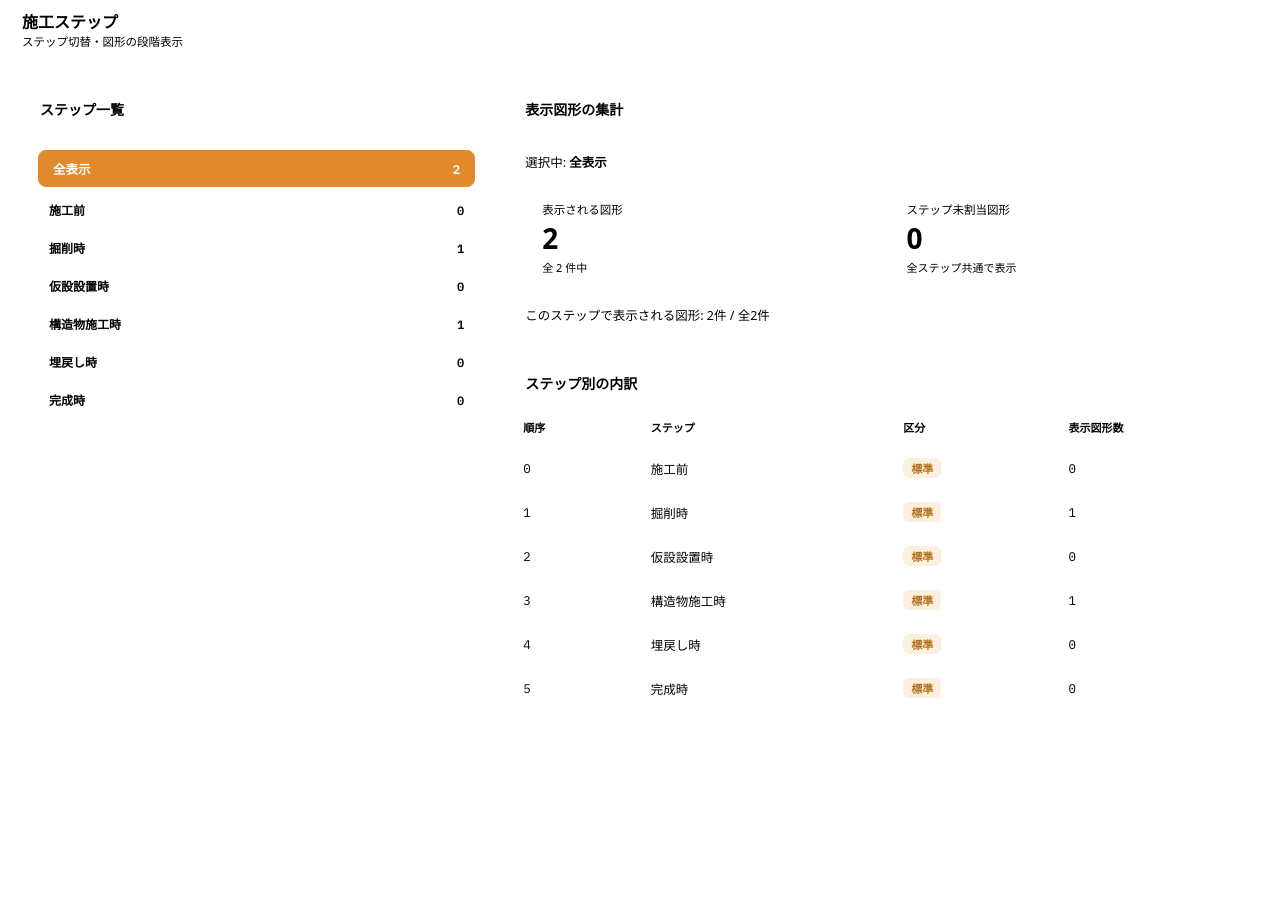
it: ConstructionStepsPage › ステップ選択後に「全表示」へ戻すと全図形が対象になる
Click the button "構造物施工時 1". click: (85, 324)
box: [38, 309, 475, 339]
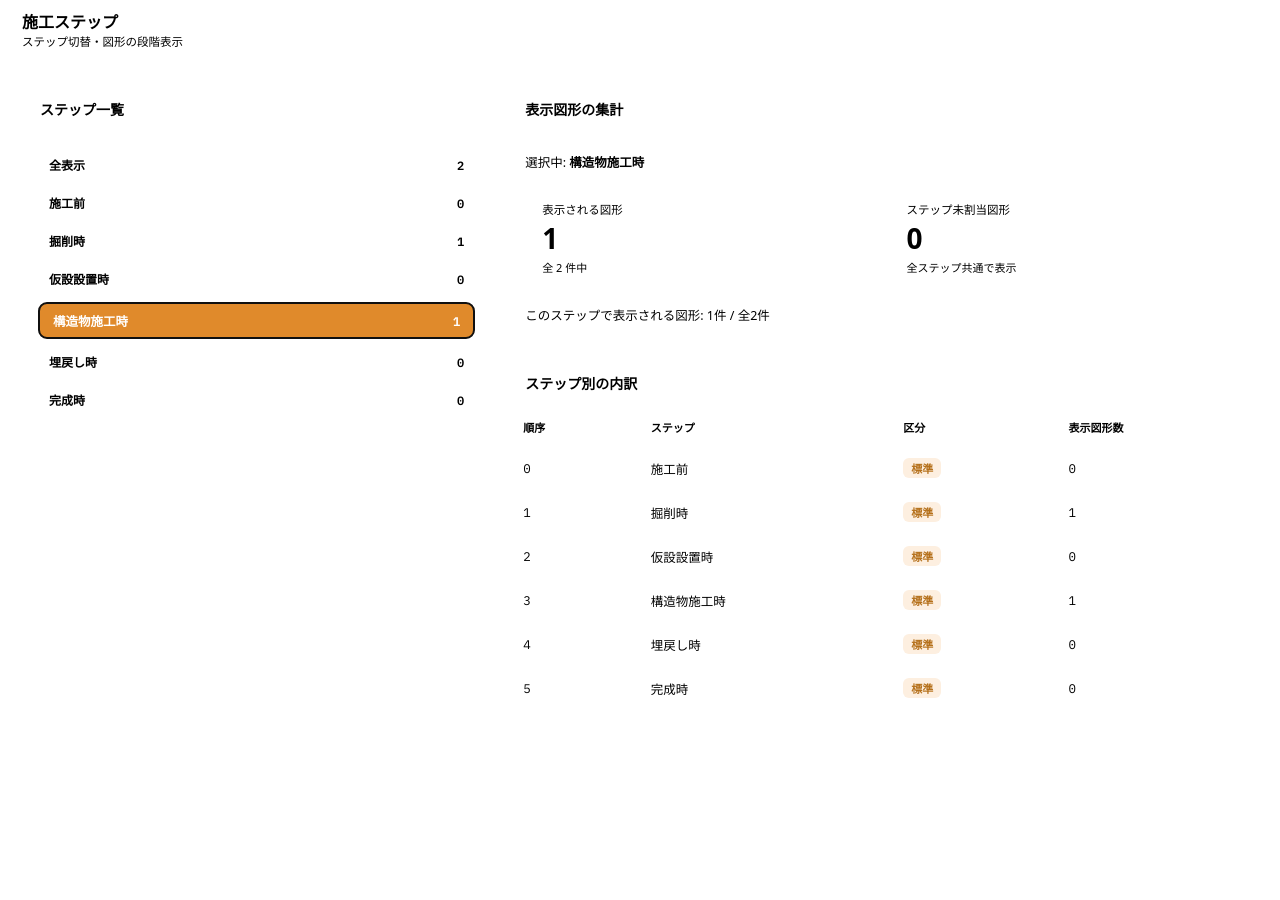
Expected: the text "このステップで表示される図形: 1件 / 全2件" is shown, [525, 307, 770, 324]
Click the button "全表示 2". click: (67, 166)
box: [38, 150, 475, 180]
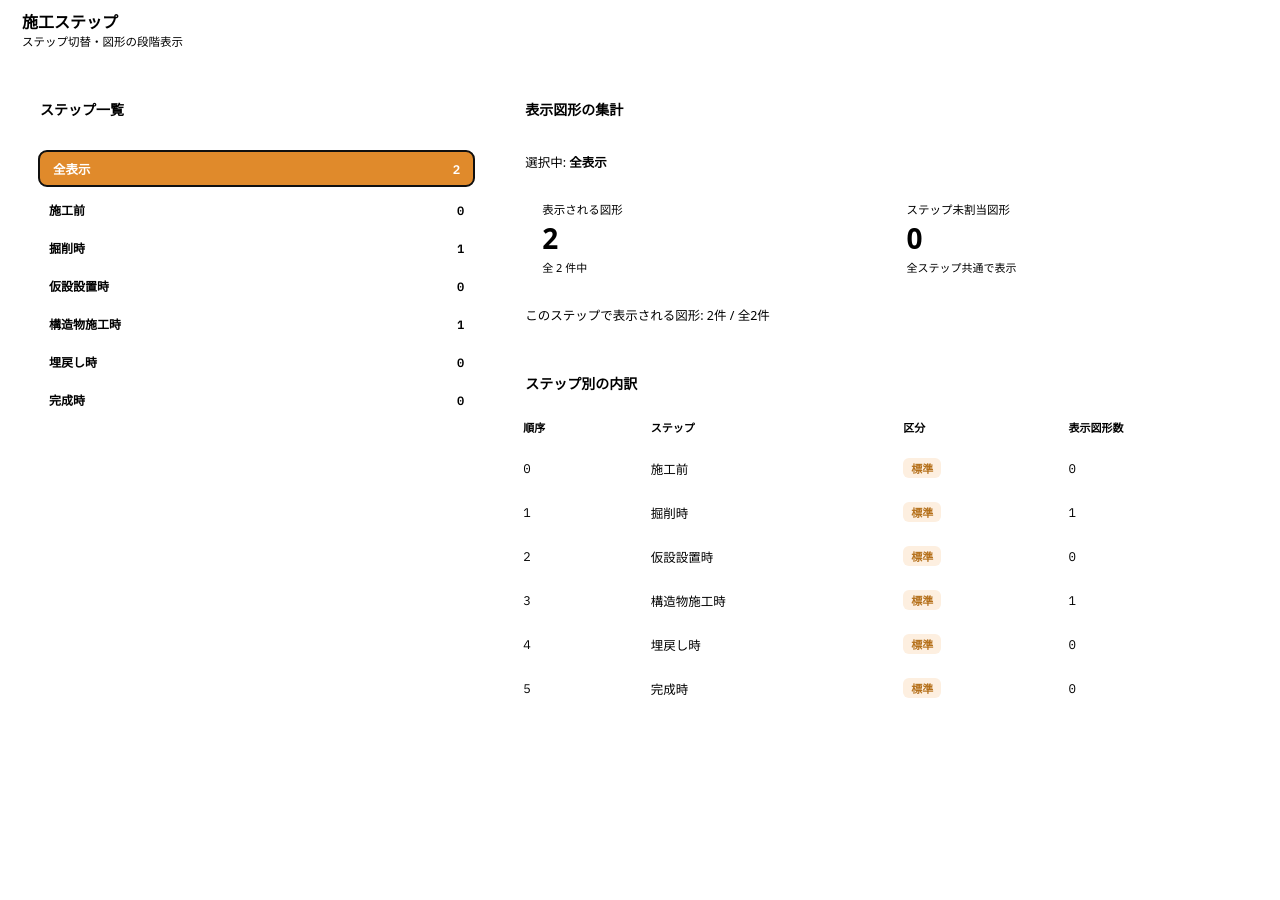
Expected: the text "このステップで表示される図形: 2件 / 全2件" is shown, [525, 307, 770, 324]
